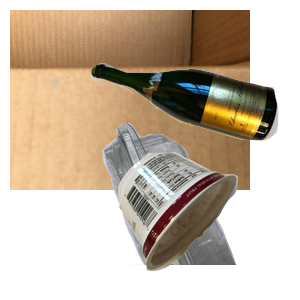cardboard: (10, 10, 250, 190)
glass: (88, 60, 300, 193)
plastic: (55, 120, 284, 300)
trash: (116, 149, 300, 300)
